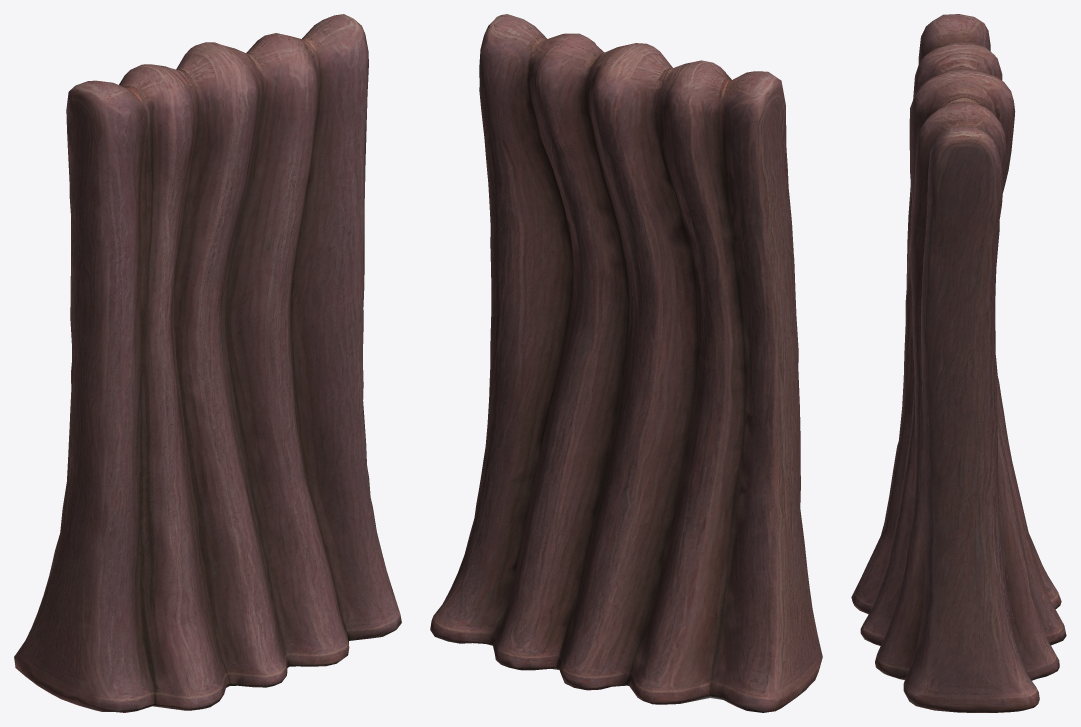
File: Prop_PuppetCurtain.fbx
3 views of the same model, side by side, from view 1: azimuth 30°, elevation 25°; view 2: azimuth 150°, elevation 25°; view 3: azimuth 270°, elevation 25° (orthographic). The views are drawn at different scales.
Parts seen in each view (by area): view 1: texture_mapping; view 2: texture_mapping; view 3: texture_mapping.
Boxes of the visible parts, bbox=[...] form: texture_mapping: bbox=[14, 14, 401, 712]; texture_mapping: bbox=[430, 14, 822, 712]; texture_mapping: bbox=[851, 14, 1066, 712].
Bounding box in the file's own units: 0.6009 × 0.3425 × 0.9975.
Materials: 1 (1 with a texture image).
